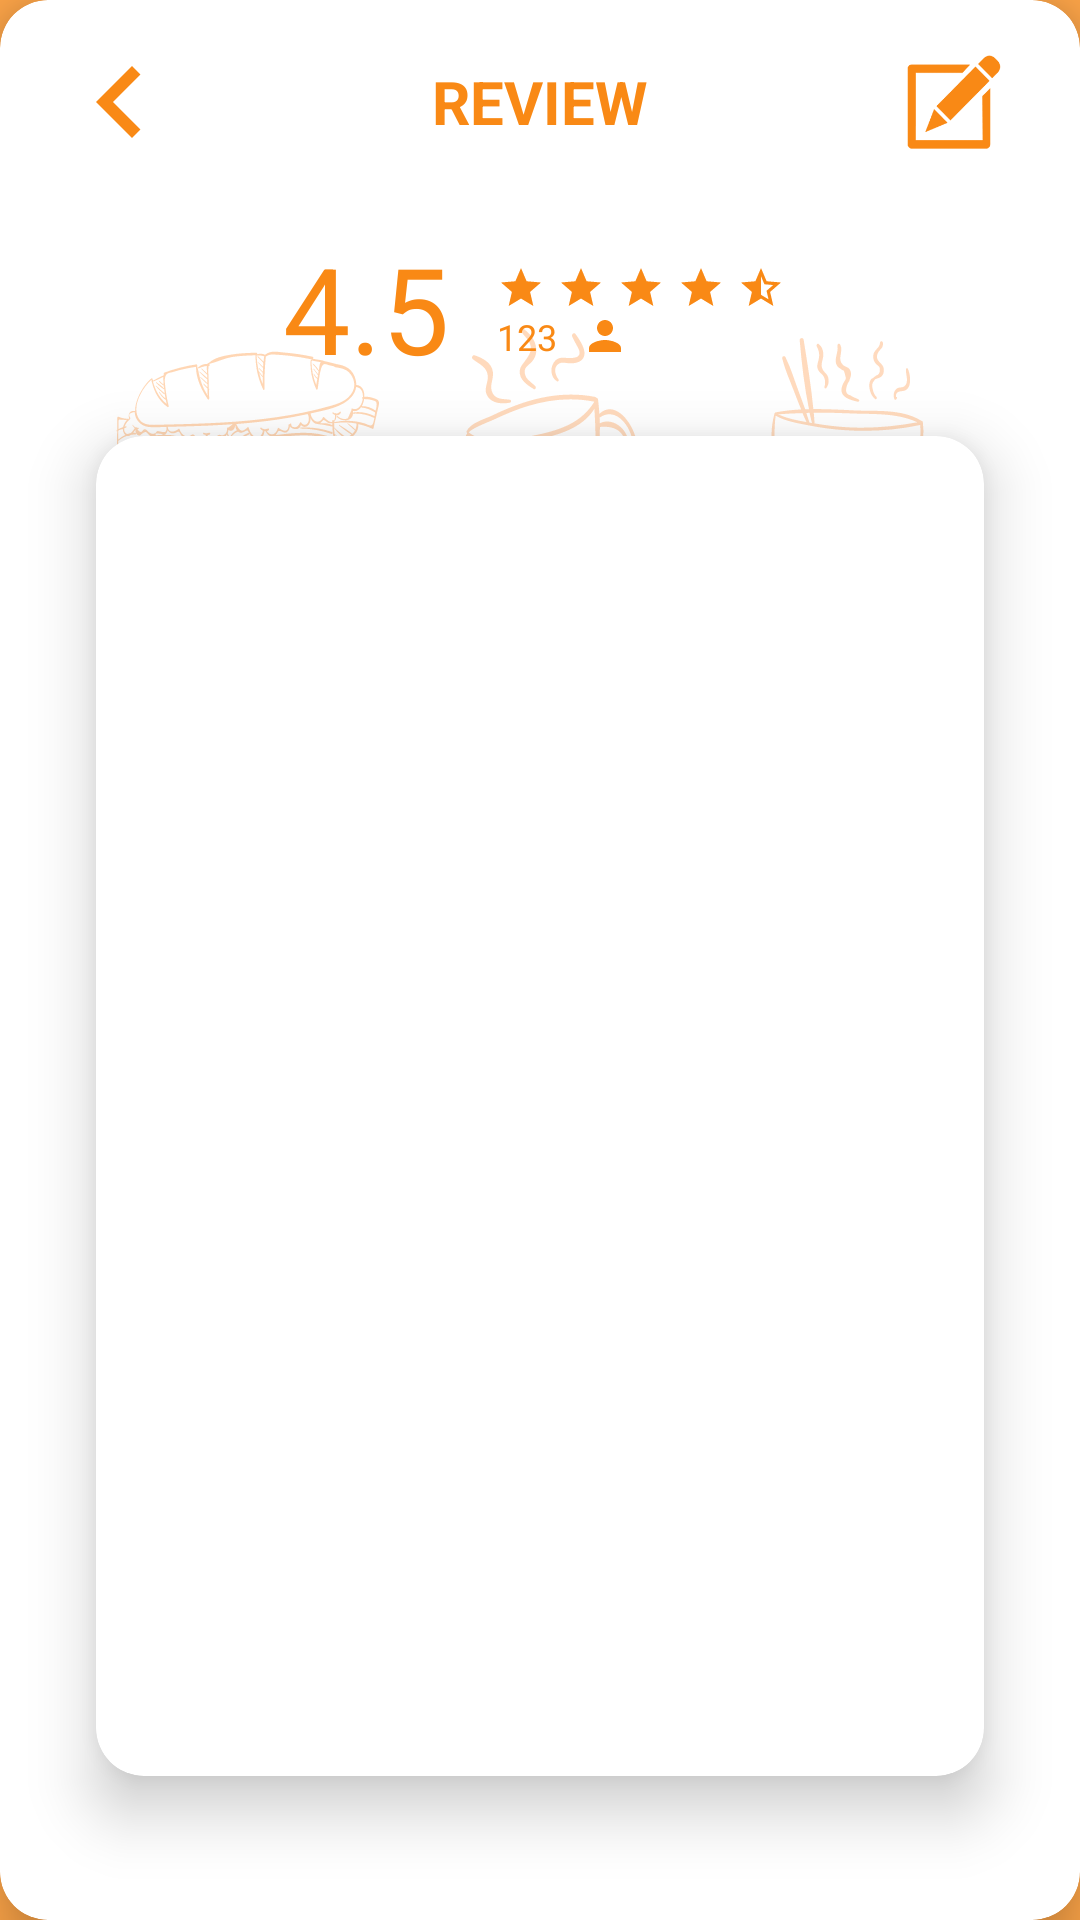

Icon bounding boxes for this 1080 x 1920 phone screenshot, format (x1, y1, x2, y2):
navigate before: (96, 66, 141, 138)
person: (589, 320, 621, 352)
star: (501, 268, 541, 306), (561, 268, 601, 306), (621, 268, 661, 306), (681, 268, 721, 306)
star half: (741, 268, 781, 306)
